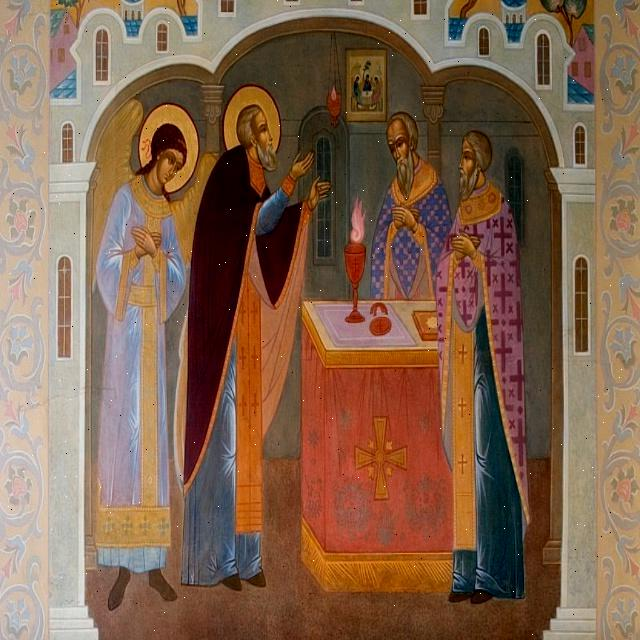angel: (80, 89, 220, 610)
apostle: (439, 122, 537, 612), (373, 103, 459, 296)
aura: (140, 104, 202, 188), (224, 82, 284, 161), (356, 75, 362, 84), (376, 76, 384, 82), (368, 72, 373, 81)
book: (414, 300, 439, 344)
chalice: (344, 239, 371, 328)
cross: (354, 412, 410, 514), (510, 414, 531, 472), (496, 274, 516, 317), (511, 300, 528, 349), (494, 213, 514, 254), (513, 353, 527, 405), (496, 331, 513, 370), (457, 393, 471, 422), (459, 452, 471, 479), (459, 341, 470, 367)
fire_tongue: (350, 196, 371, 243), (330, 81, 340, 99)
icon: (348, 48, 390, 120)
lamp: (328, 30, 347, 129)
plate: (370, 313, 394, 341)
saint: (174, 76, 317, 598)
wing: (81, 93, 145, 278), (174, 150, 223, 274)
